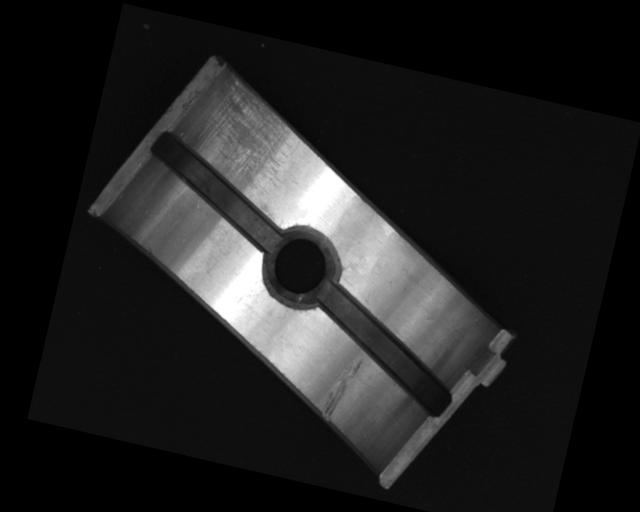gap: (301, 280, 469, 419), (132, 129, 299, 254)
hole: (258, 218, 343, 311)
nick: (317, 352, 365, 427)
scratch: (186, 74, 308, 199)
